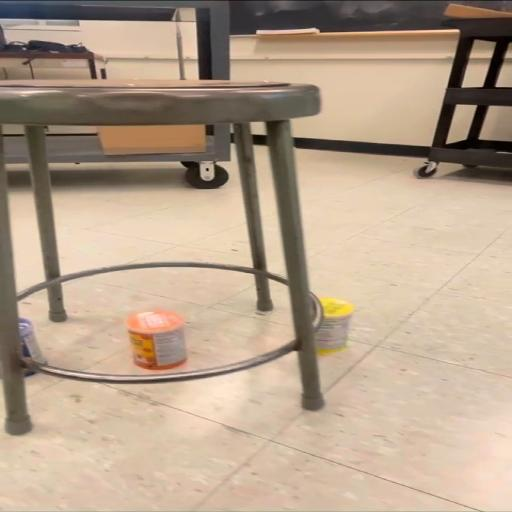pringle can: (122, 310, 186, 370), (314, 297, 354, 356)
